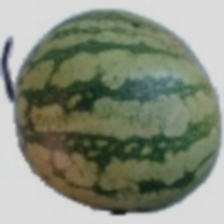watermelon: (16, 32, 180, 210)
